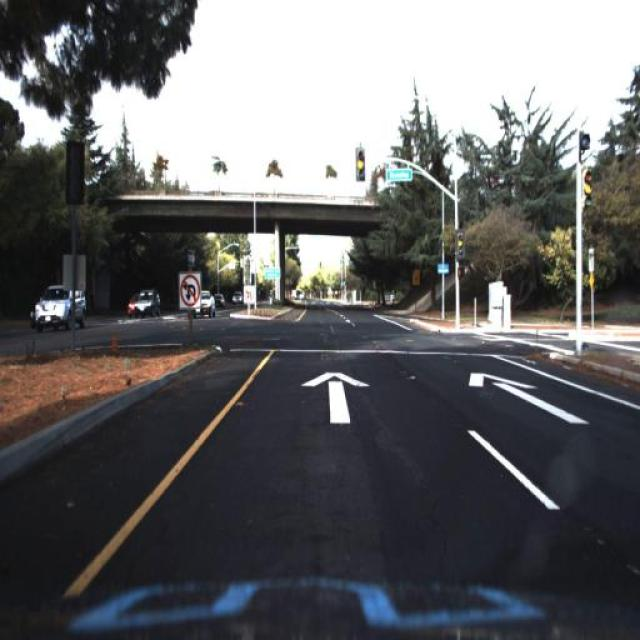car: (30, 282, 90, 338), (133, 282, 166, 320), (136, 289, 162, 317), (190, 291, 216, 319), (216, 289, 229, 315), (234, 290, 248, 310)
trafficLight-YellowLeft: (581, 168, 593, 211), (453, 227, 465, 259), (354, 151, 365, 181)
